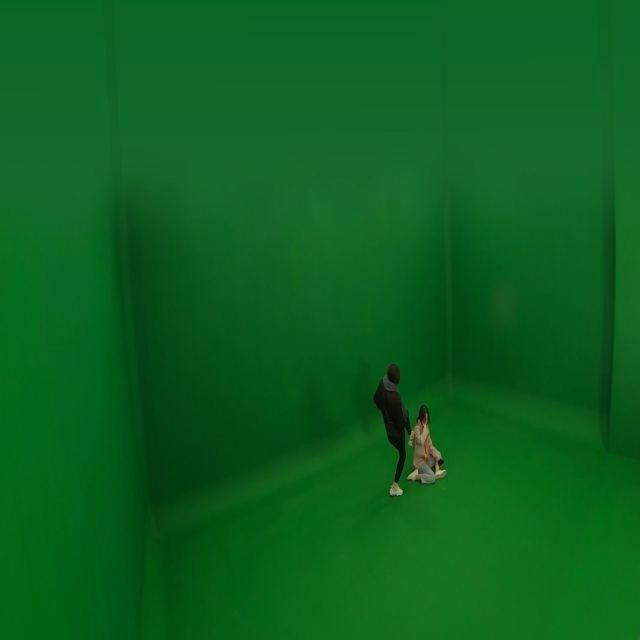fight: (375, 364, 444, 497)
